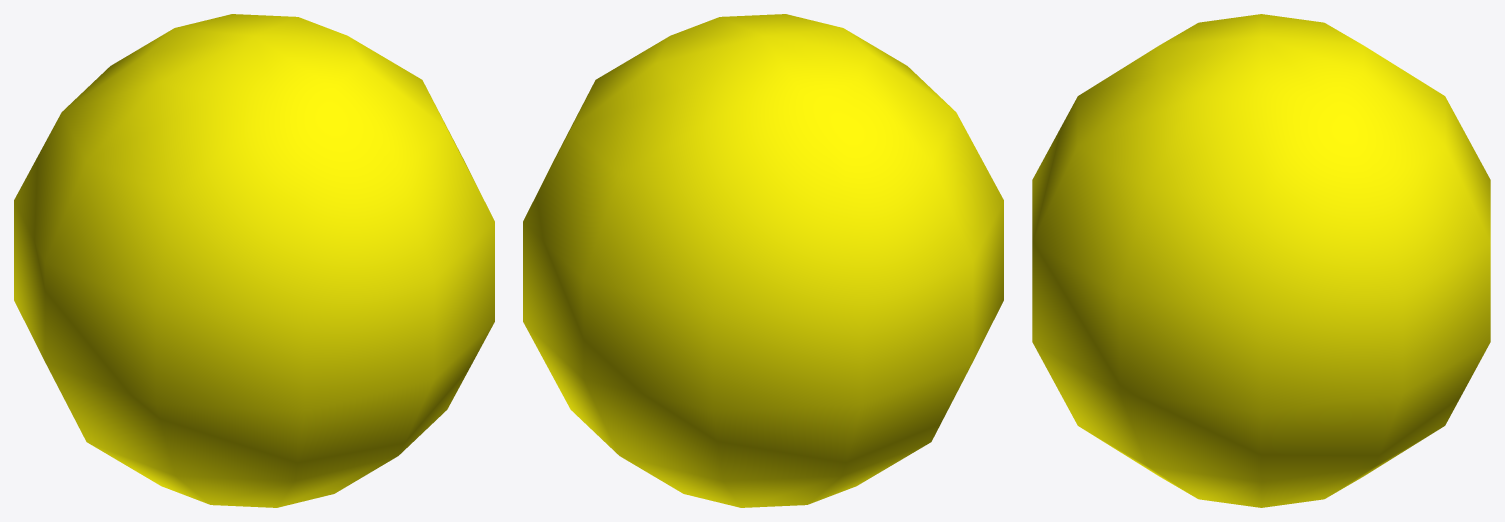
Rendered from boule_jaune.dae.
The picture shows the model from 3 angles, left to right: view 1: azimuth 30°, elevation 25°; view 2: azimuth 150°, elevation 25°; view 3: azimuth 270°, elevation 25°; orthographic projection.
Parts seen in each view (by area): view 1: boule_jaune; view 2: boule_jaune; view 3: boule_jaune.
Part boxes in pixels (<box>): boule_jaune: <box>14,14,494,507</box>; boule_jaune: <box>523,14,1003,507</box>; boule_jaune: <box>1032,14,1490,507</box>.
Size of the model in its own units: 0.9749 by 0.9272 by 1.
